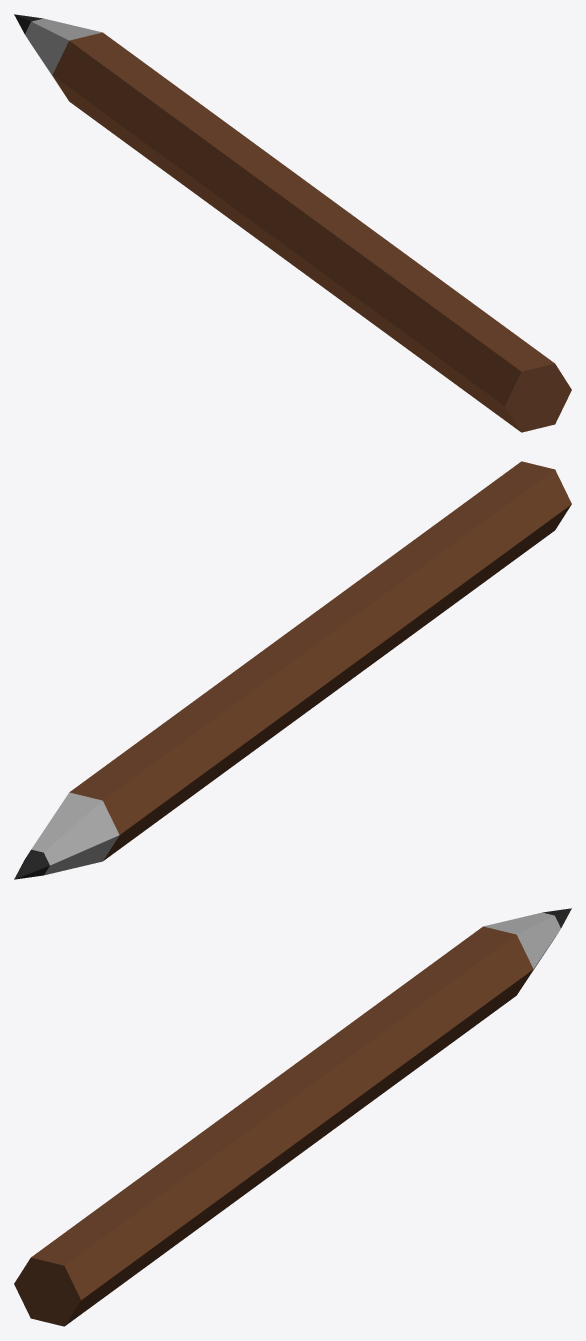
Rendered from pencil01.gltf.
3 renders of one model, top to bottom at view 1: azimuth 30°, elevation 25°; view 2: azimuth 150°, elevation 25°; view 3: azimuth 330°, elevation 25°, orthographic.
Parts seen in each view (by area): view 1: Cylinder; view 2: Cylinder; view 3: Cylinder.
Part boxes in pixels (x1,y1,x2,y2): Cylinder: (14,14,571,432); Cylinder: (14,461,571,879); Cylinder: (14,908,571,1326).
Bounding box in the file's own units: 0.00986 × 0.00854 × 0.1332.
1 material, 1 textured.
